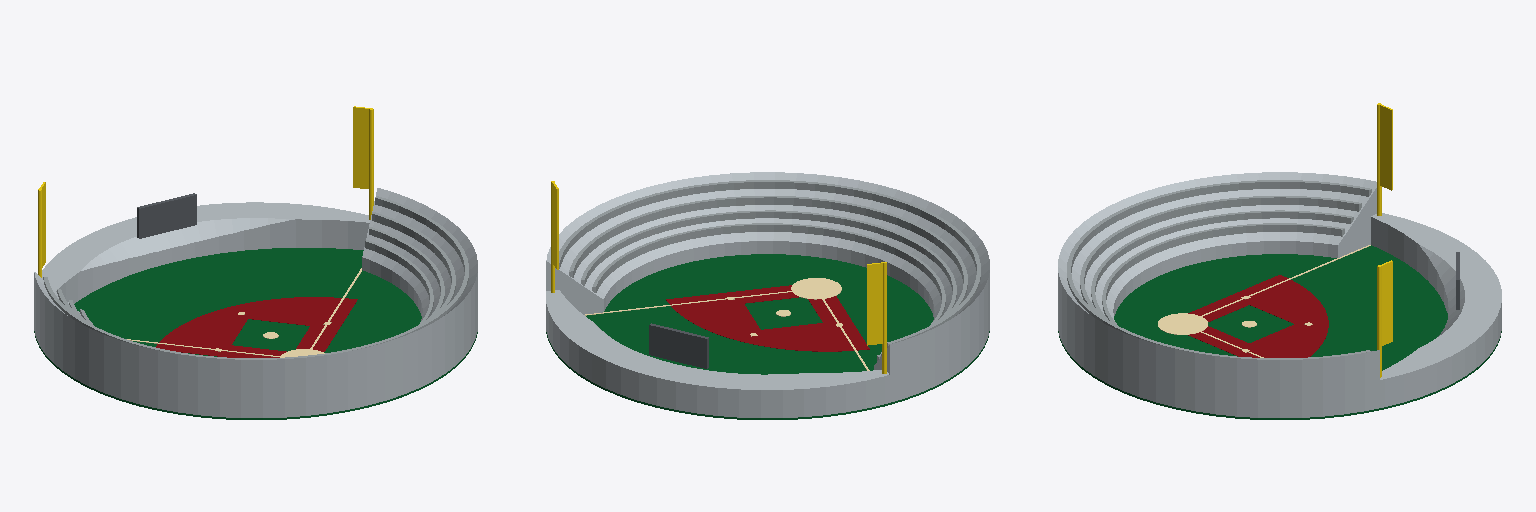
File: estadio.obj
3 renders of one model, left to right at view 1: azimuth 30°, elevation 25°; view 2: azimuth 150°, elevation 25°; view 3: azimuth 270°, elevation 25°, orthographic.
Visible parts, largest first — view 1: estadio; view 2: estadio; view 3: estadio.
Part boxes in pixels (x1,y1,x2,y2): estadio: (34,106,477,419); estadio: (546,172,989,419); estadio: (1058,103,1501,419).
Bounding box in the file's own units: 490 × 171 × 490.